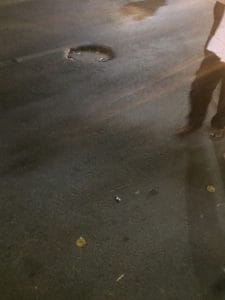pothole: (66, 29, 117, 66)
